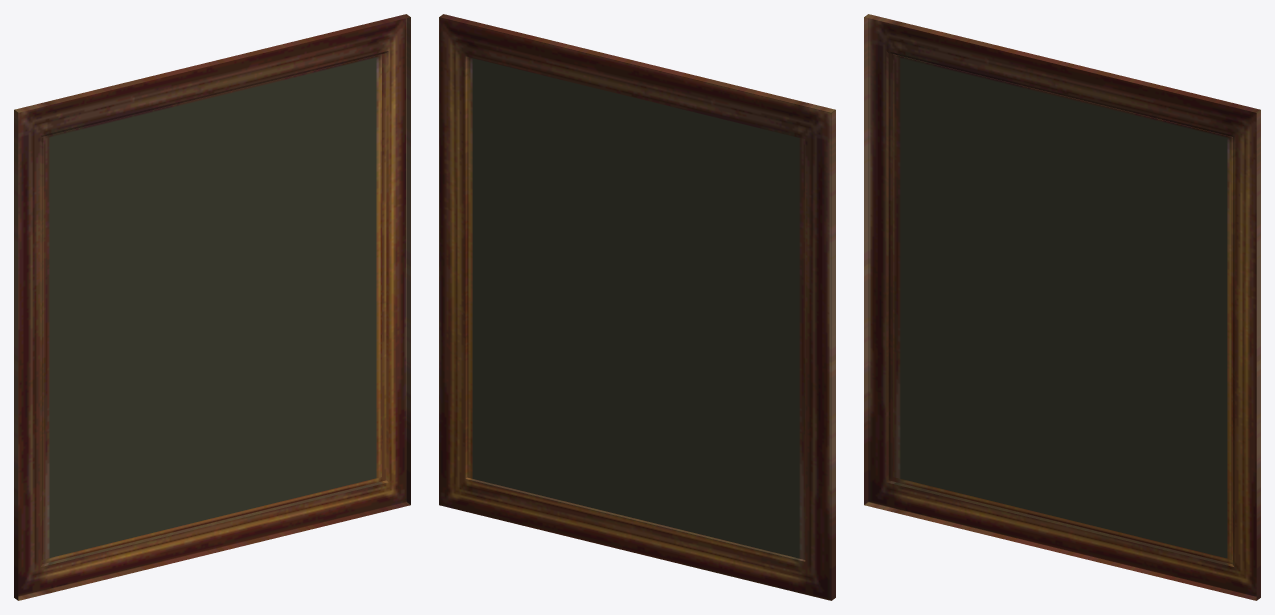
The model's file is Espejo01.fbx.
3 views of the same model, side by side, from view 1: azimuth 30°, elevation 25°; view 2: azimuth 150°, elevation 25°; view 3: azimuth 330°, elevation 25° (orthographic).
Parts seen in each view (by area): view 1: Espejo01; view 2: Espejo01; view 3: Espejo01.
Boxes of the visible parts, <box> form: Espejo01: <box>14,14,410,600</box>; Espejo01: <box>439,14,835,600</box>; Espejo01: <box>864,14,1260,600</box>.
Bounding box in the file's own units: 53 × 63 × 1.
